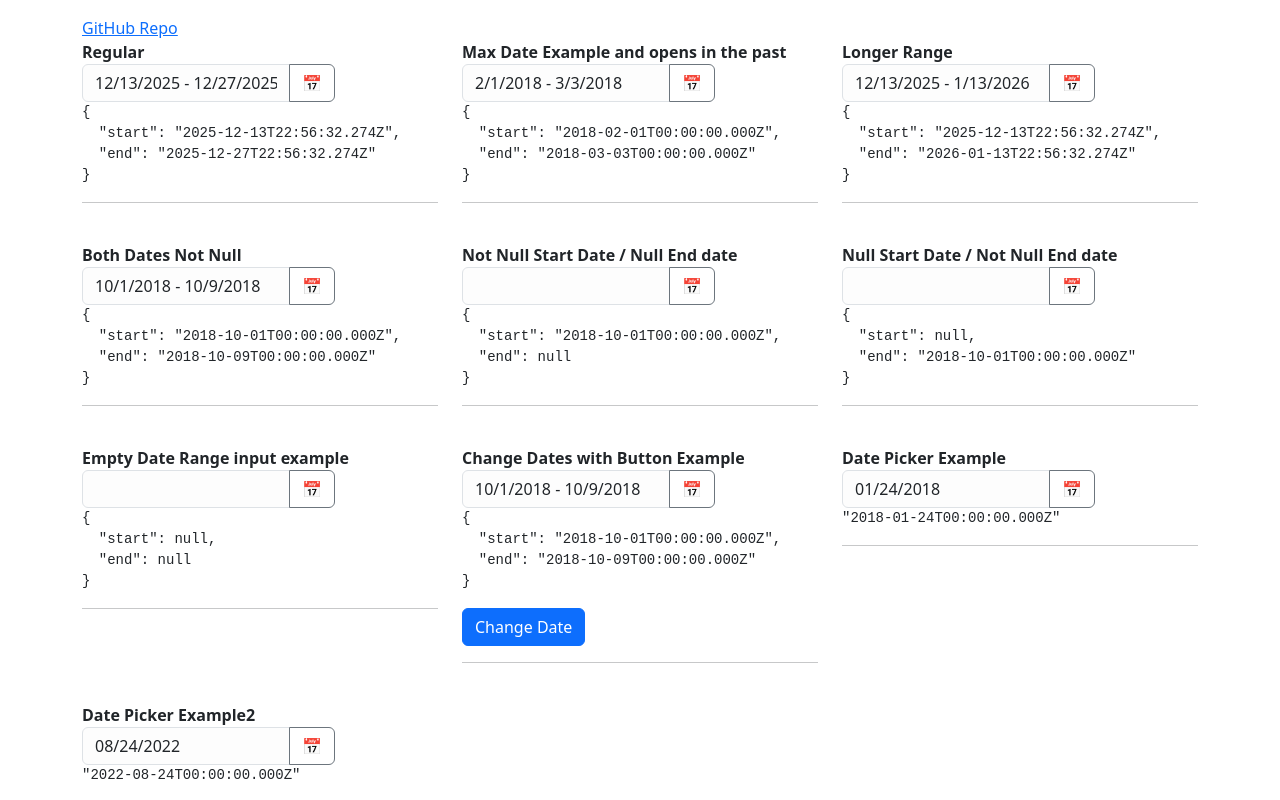
Test: date-picker tests › should change date when click on Jan 18
The width and height of the screenshot is (1280, 800).
Click the field with id "date-picker8".
click(946, 489)  # box x1=842 y1=470 x2=1050 y2=508
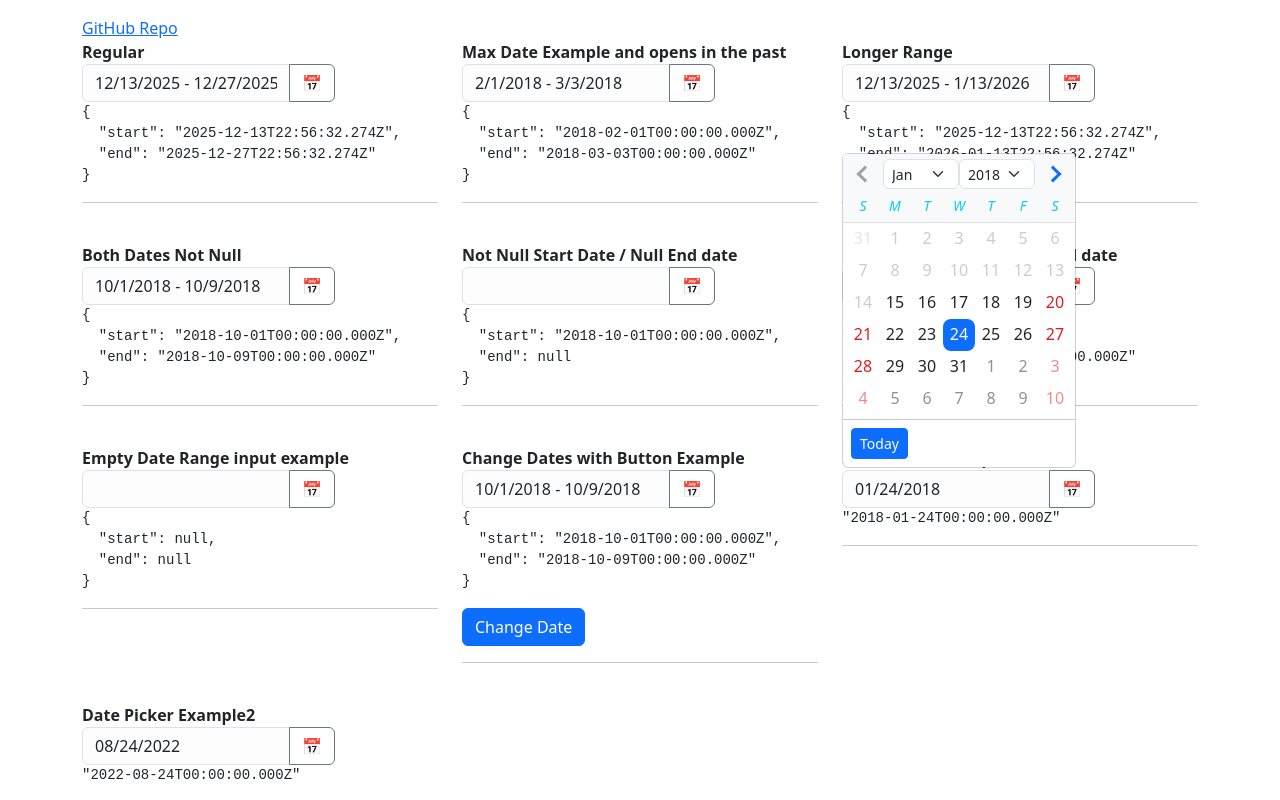
Expected: the number of elements with class "custom-day" is 42, x1=854 y1=227 x2=872 y2=249
Expected: the 1st text with class "custom-day" reads "31", x1=854 y1=227 x2=872 y2=249
// pick another day
Click the text "18".
click(991, 302)  # box x1=982 y1=291 x2=1000 y2=313
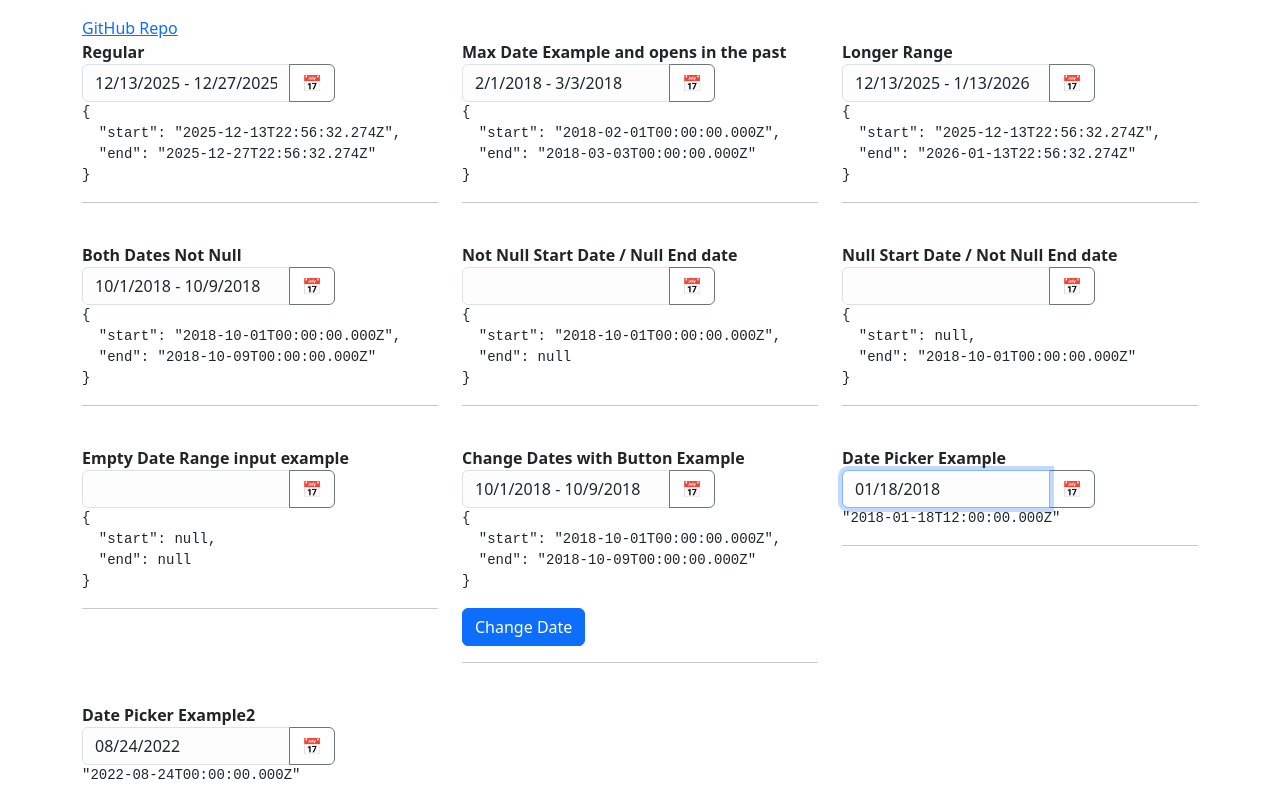
Expected: the field with id "date-picker8" holds "01/18/2018", x1=842 y1=470 x2=1050 y2=508
